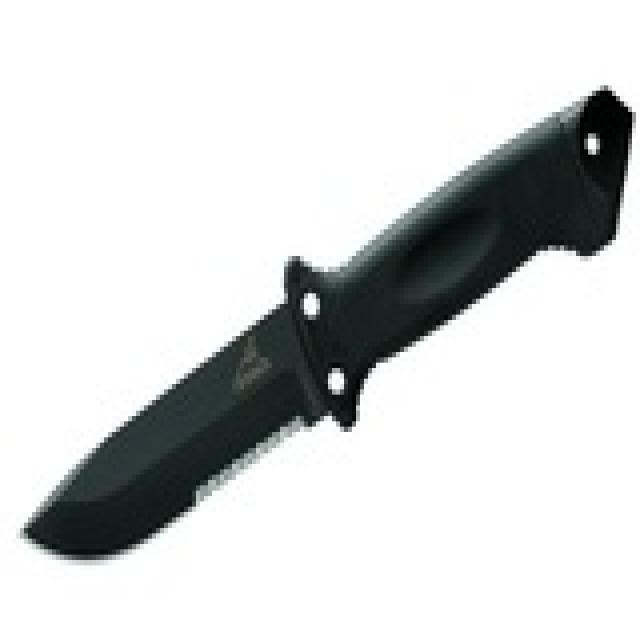Knife: (9, 81, 630, 572)
